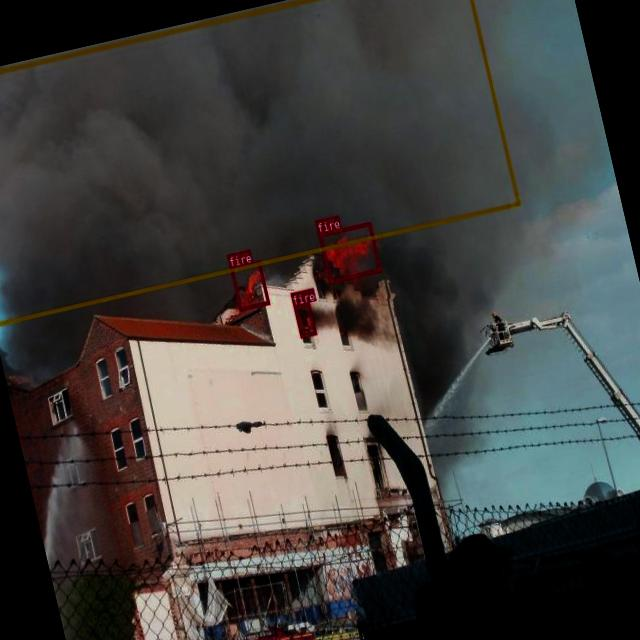fire: (318, 221, 380, 283), (230, 260, 269, 310), (293, 302, 316, 338)
smoke: (0, 0, 519, 325)
